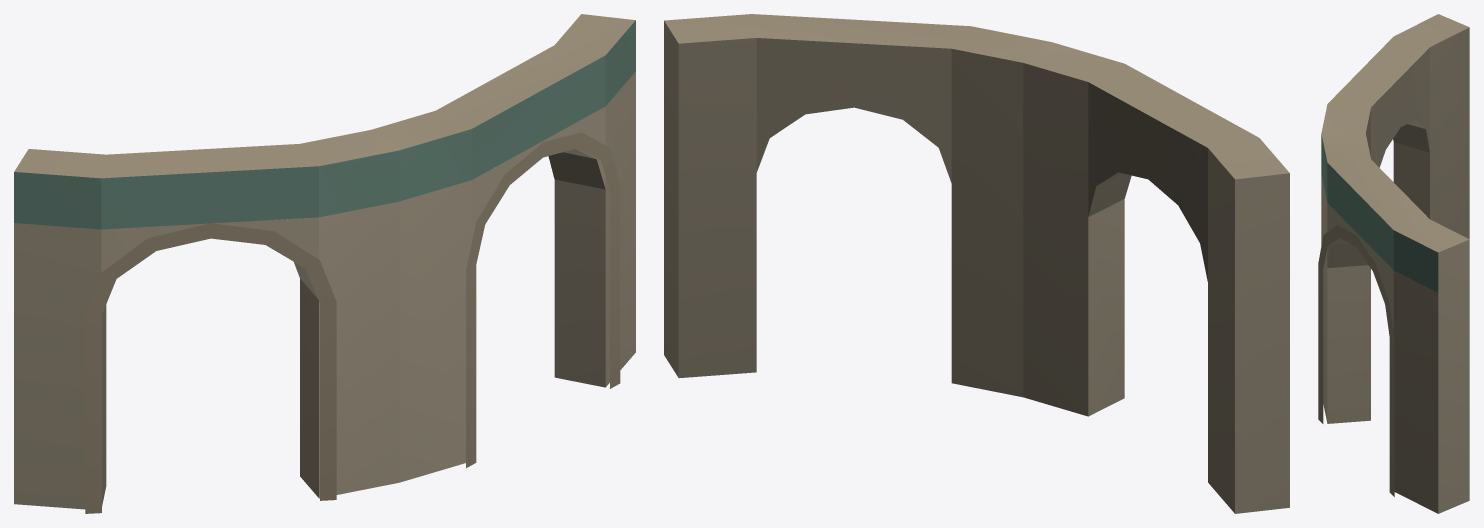
The model's file is dome.drum_arch.copper.glb.
3 renders of one model, left to right at view 1: azimuth 30°, elevation 25°; view 2: azimuth 150°, elevation 25°; view 3: azimuth 270°, elevation 25°, orthographic. The views are drawn at different scales.
Visible parts, largest first — view 1: dome_drum_arch_copper; view 2: dome_drum_arch_copper; view 3: dome_drum_arch_copper.
Boxes of the visible parts, x1,y1,x2,y2 form: dome_drum_arch_copper: (14,14,635,513); dome_drum_arch_copper: (664,14,1289,513); dome_drum_arch_copper: (1318,14,1469,513).
Size of what is drawn, in the model's own units: 5.09 by 2.6 by 1.37.
